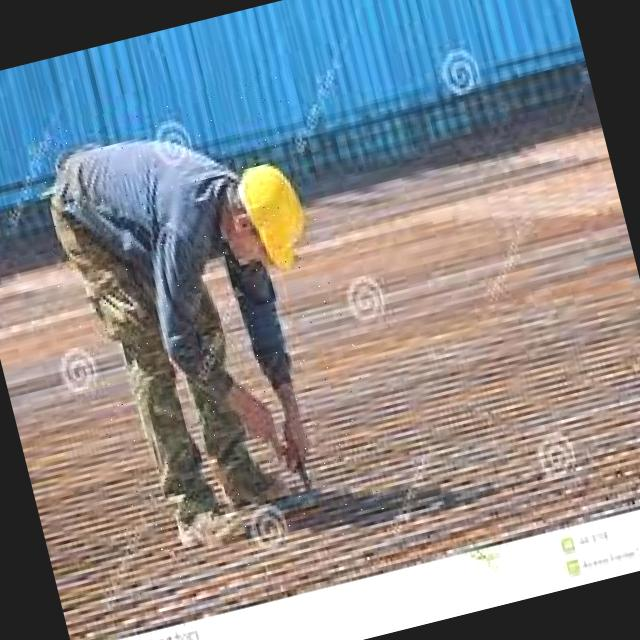helmet: (230, 152, 324, 282)
no-boots: (166, 478, 260, 568), (210, 438, 294, 524)
no-gloves: (214, 364, 284, 451), (274, 405, 320, 466)
no-vest: (34, 100, 248, 396)
